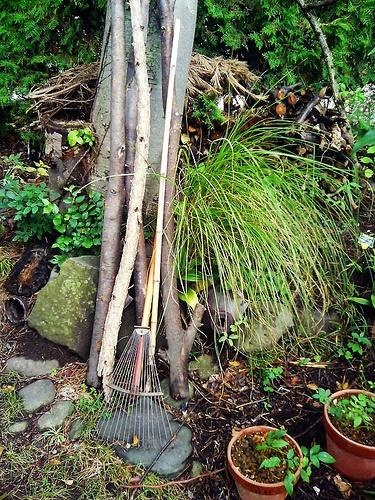pottedplant: (228, 426, 301, 500), (325, 390, 375, 485)
